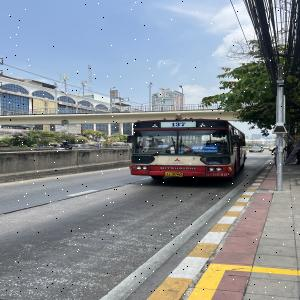BMTA-bus: (129, 115, 249, 181)
Bus Line Number: (169, 121, 187, 127)
Bus Side Number: (205, 172, 230, 177)
Destination Sign: (192, 145, 218, 153)
